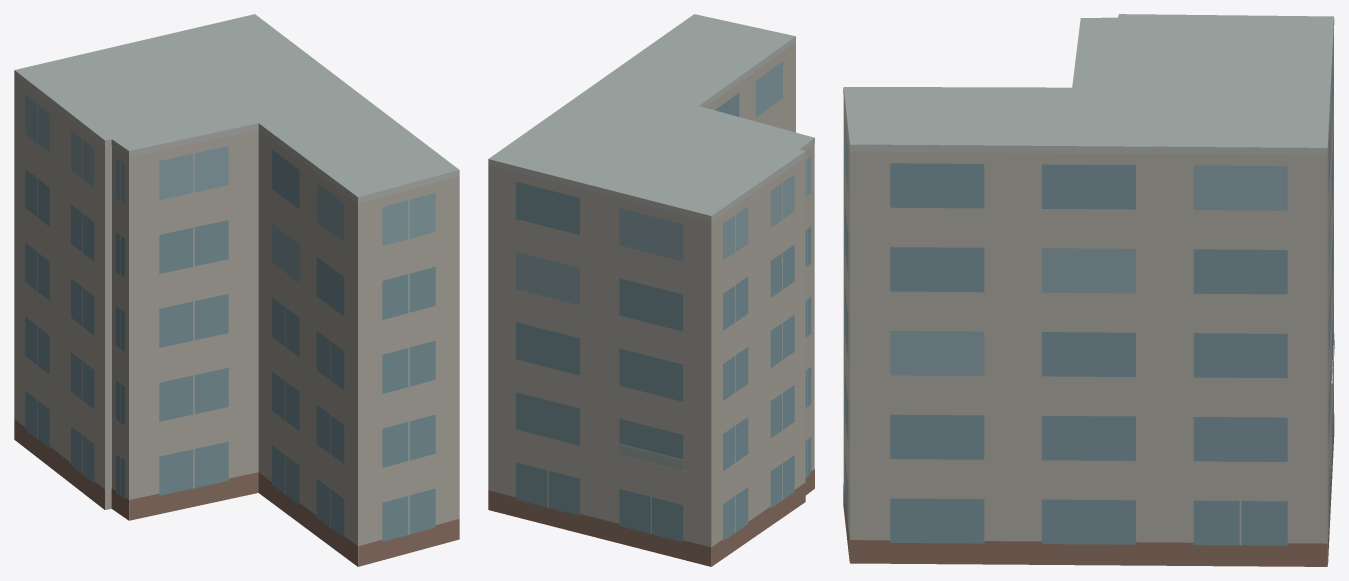
The model's file is survey-upis-32635686.glb.
3 renders of one model, left to right at view 1: azimuth 30°, elevation 25°; view 2: azimuth 150°, elevation 25°; view 3: azimuth 270°, elevation 25°, orthographic. The views are drawn at different scales.
Parts seen in each view (by area): view 1: survey-upis-32635686.tmp; view 2: survey-upis-32635686.tmp; view 3: survey-upis-32635686.tmp.
Boxes of the visible parts, x1,y1,x2,y2 form: survey-upis-32635686.tmp: (14, 14, 459, 566); survey-upis-32635686.tmp: (488, 14, 814, 566); survey-upis-32635686.tmp: (843, 14, 1334, 566).
Bounding box in the file's own units: 9.75 × 14.2 × 15.09.
